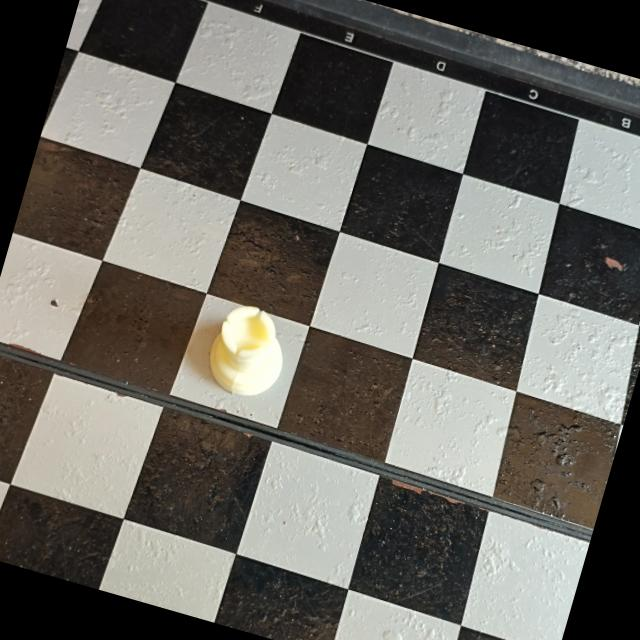White Rook: (196, 294, 300, 408)
